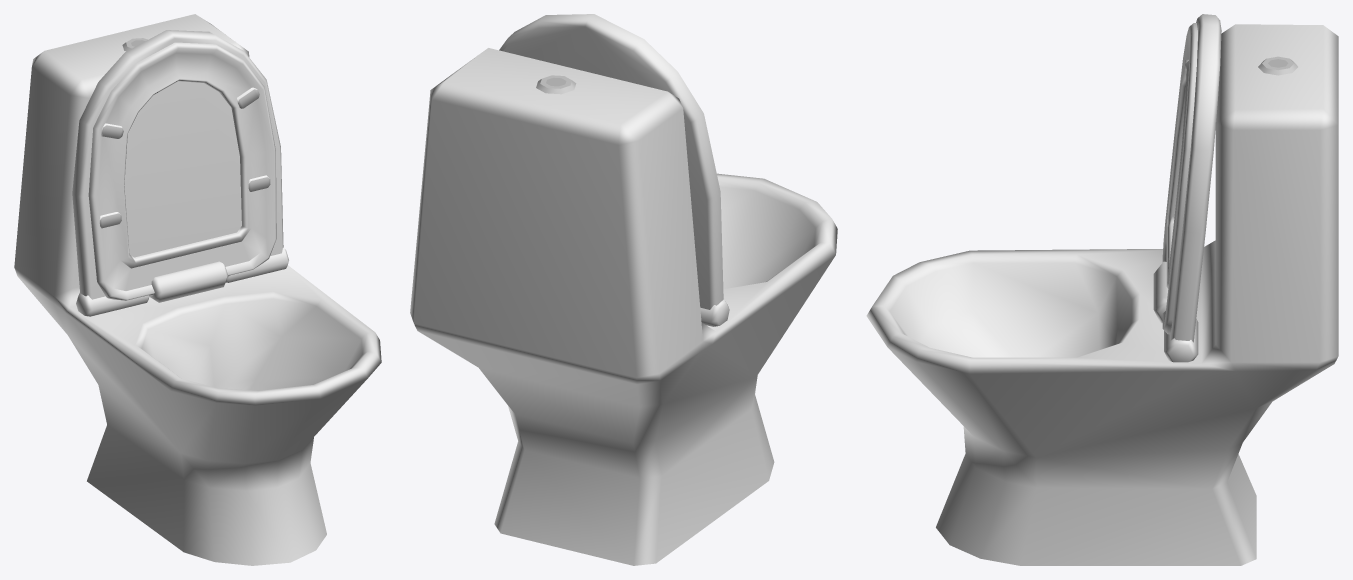
Rendered from bathroom_025.fbx.
3 renders of one model, left to right at view 1: azimuth 30°, elevation 25°; view 2: azimuth 150°, elevation 25°; view 3: azimuth 270°, elevation 25°, orthographic. The views are drawn at different scales.
Visible parts, largest first — view 1: bathroom_025; view 2: bathroom_025; view 3: bathroom_025.
Boxes of the visible parts, <box> form: bathroom_025: <box>14,14,381,565</box>; bathroom_025: <box>410,14,837,565</box>; bathroom_025: <box>866,14,1338,565</box>.
Bounding box in the file's own units: 61.67 × 104 × 122.
